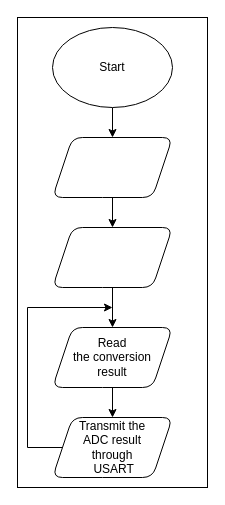
Image size: 225x505. Some labels were removed from this diagram. Each missing label, with the centre of its shape:
"Initialize MCU, peripherals, pins" belongs at point 112,167.
"Start ADC conversion" belongs at point 112,257.
